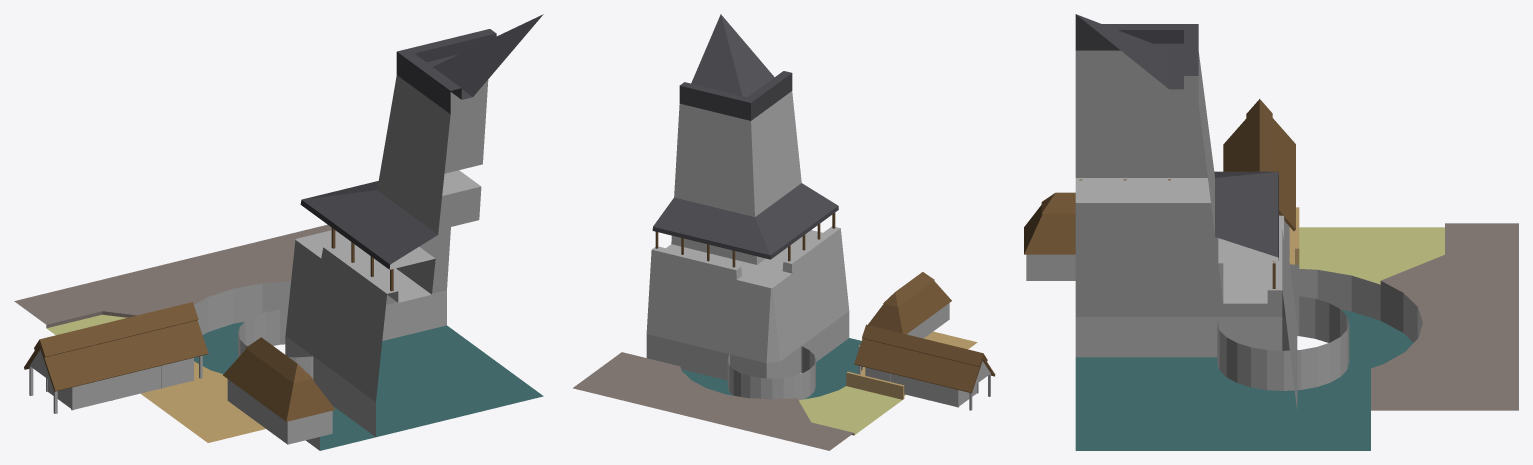
File: rrc1.obj
3 views of the same model, side by side, from view 1: azimuth 30°, elevation 25°; view 2: azimuth 150°, elevation 25°; view 3: azimuth 270°, elevation 25° (orthographic). The views are drawn at different scales.
Parts seen in each view (by area): view 1: rrc1; view 2: rrc1; view 3: rrc1.
Part boxes in pixels (<box>): rrc1: <box>14,14,543,450</box>; rrc1: <box>573,14,995,450</box>; rrc1: <box>1024,14,1518,450</box>.
Size of the model in its own units: 37.84 by 32.63 by 33.48.
